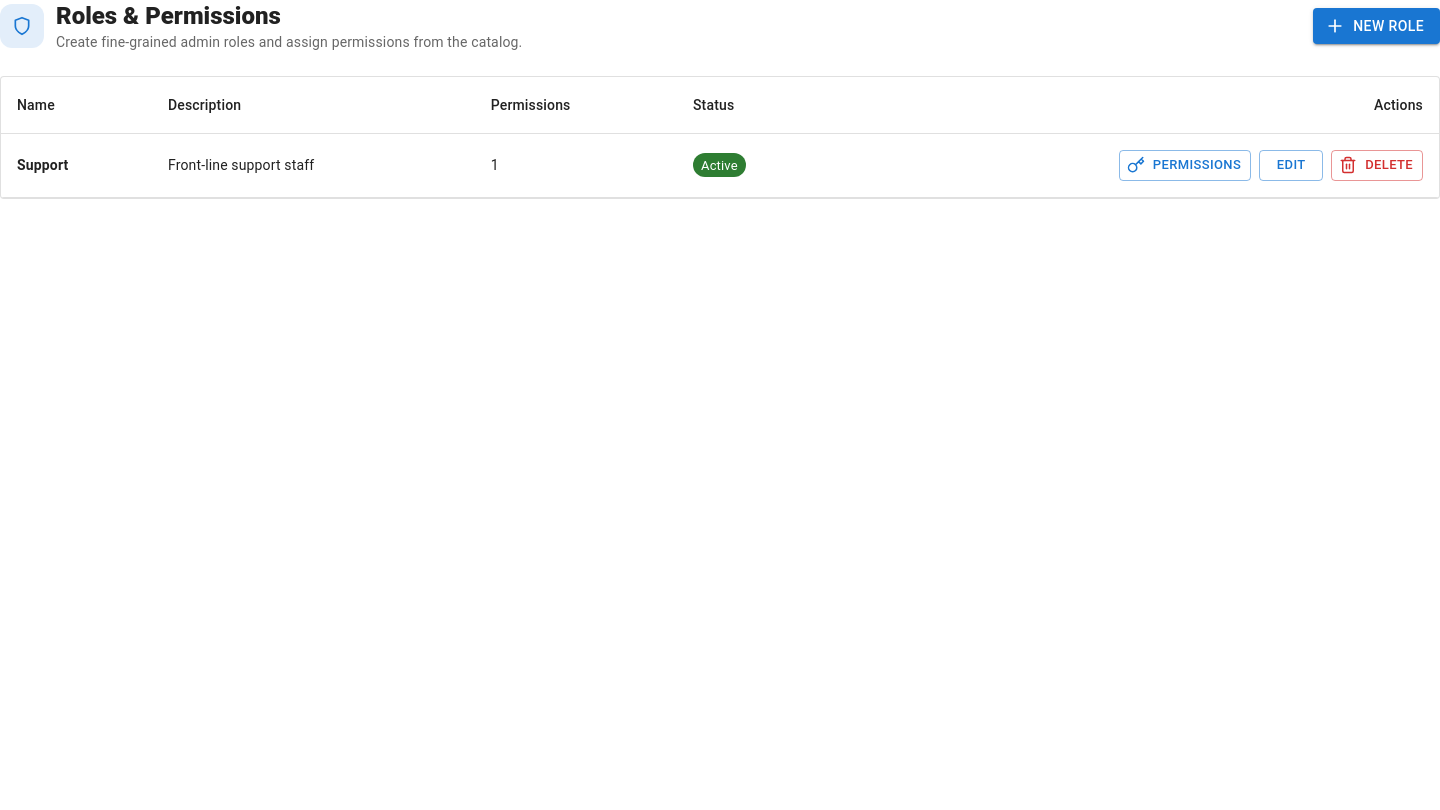
Scenario: Admin RolesPermissions.page › creates a role via the New Role dialog
Expected: the text "Support" is shown, [1,134,152,197]
Click the button "New Role". click: click(1377, 26)
box: [1313,8,1439,44]
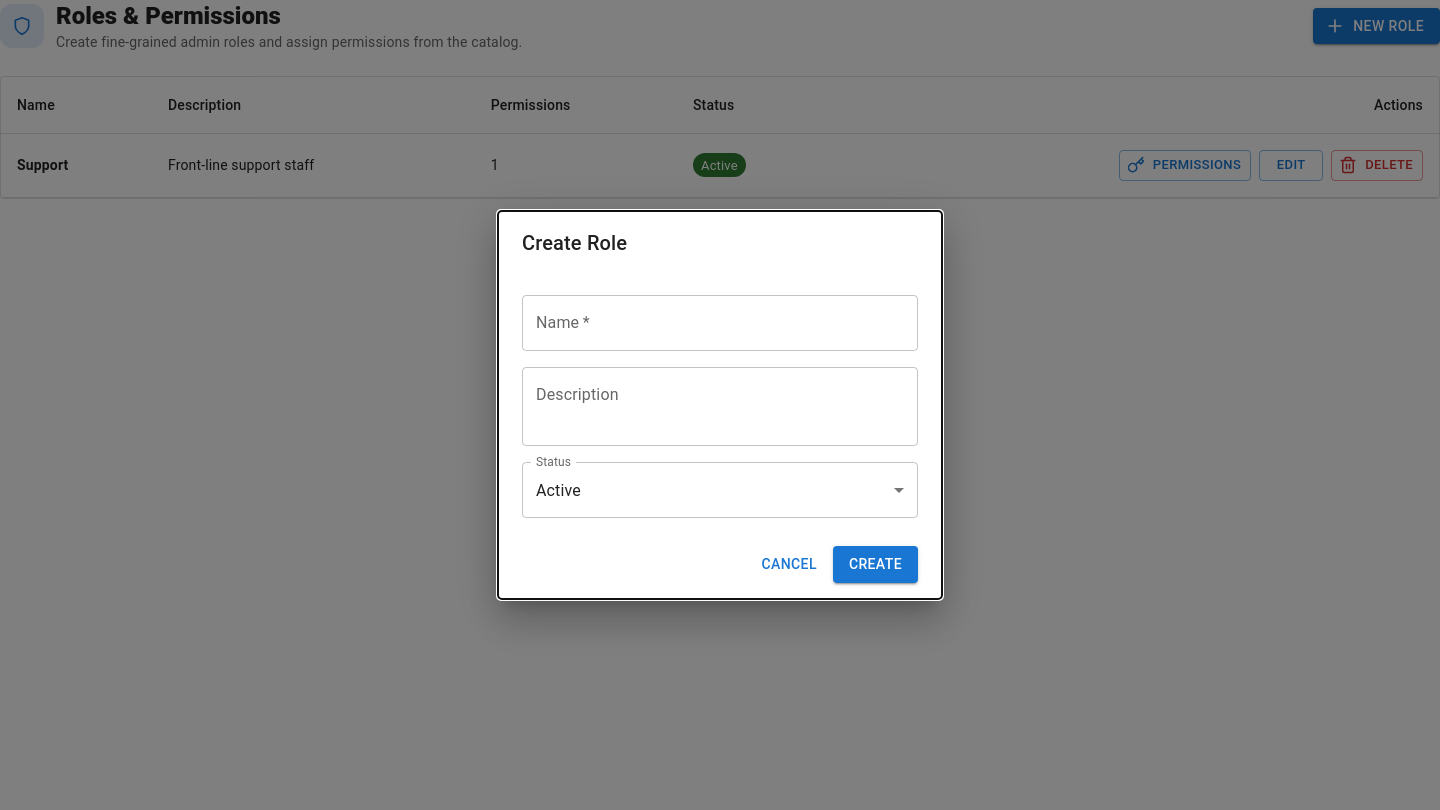
Expected: the heading "Create Role" is shown, [522,231,627,255]
Type "Billing" into the field labelled "Name *". click: (720, 323)
box: [522,295,918,351]
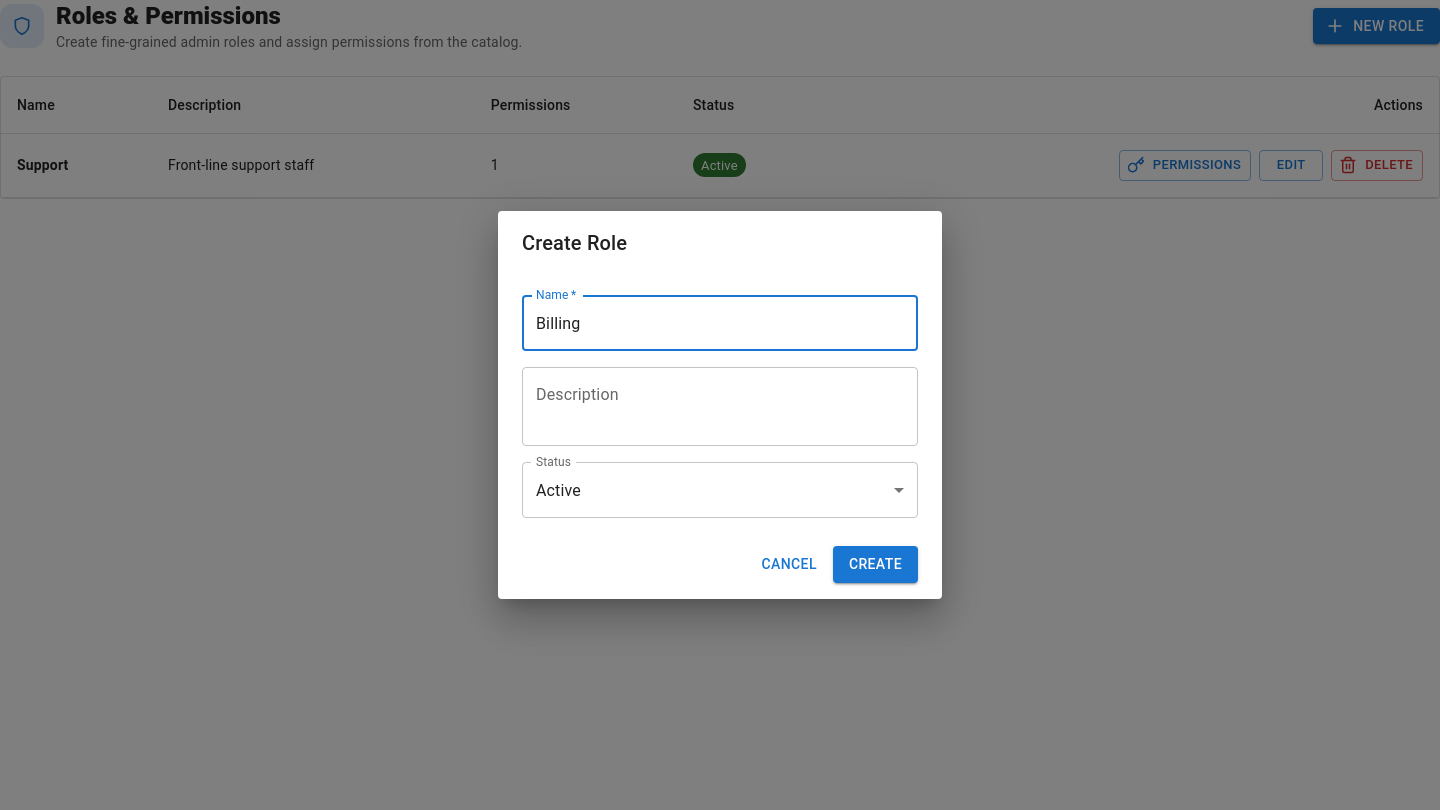
Click the button "Create". click: click(875, 565)
box: [833,546,918,583]
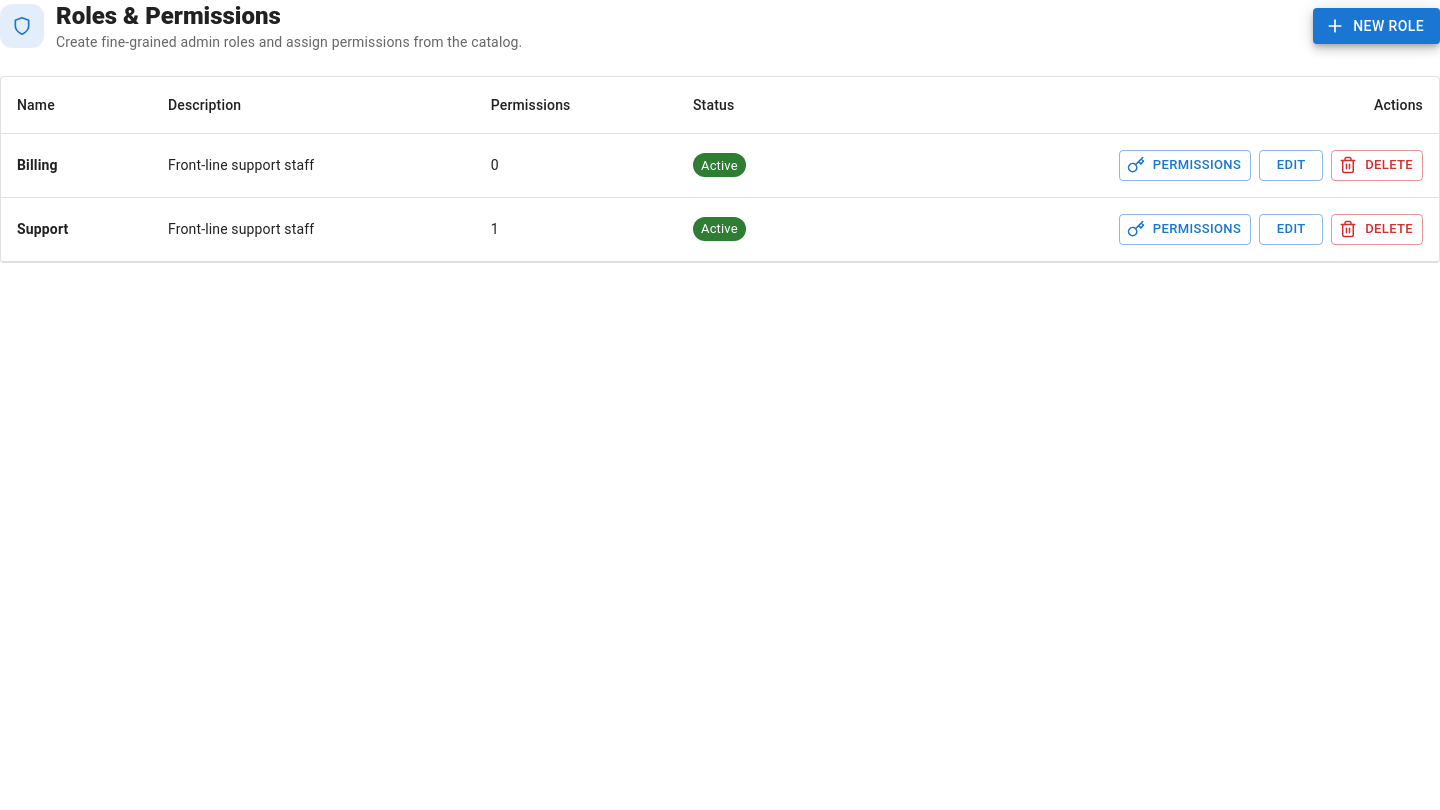
Expected: the text "Billing" is shown, [1,134,152,197]
